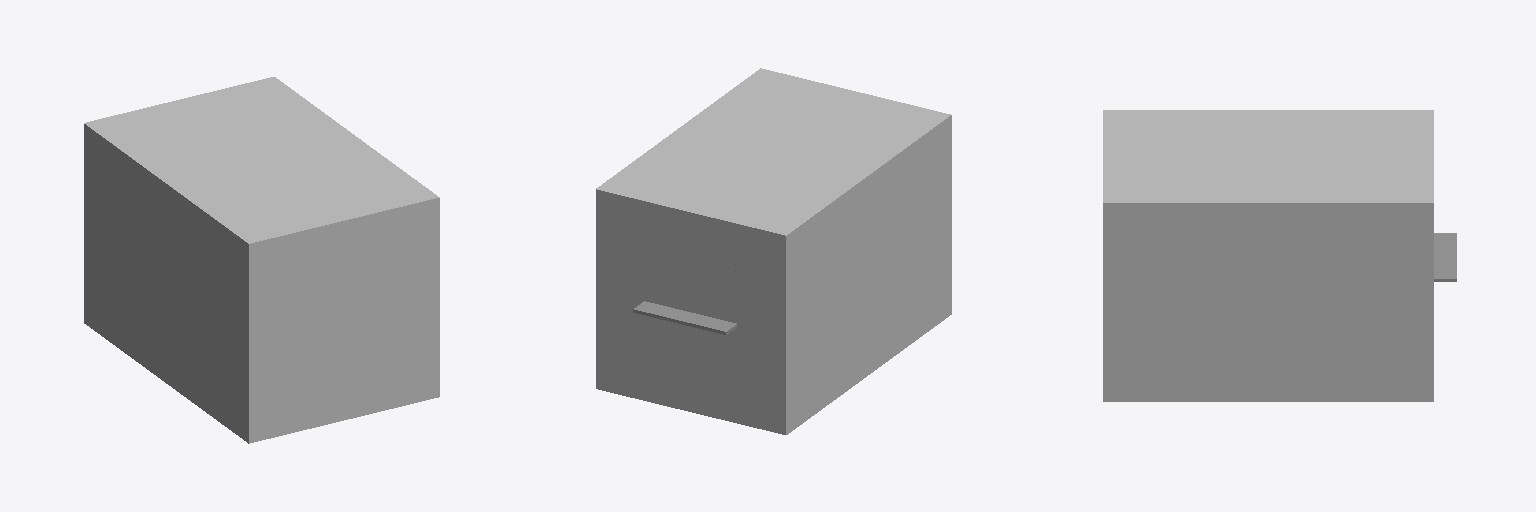
Rendered from aucman_hightech_displaystand.obj.
The picture shows the model from 3 angles: view 1: azimuth 30°, elevation 25°; view 2: azimuth 150°, elevation 25°; view 3: azimuth 270°, elevation 25°; orthographic projection.
Visible parts, largest first — view 1: co_culling; view 2: co_culling, c_box_003, c_box_002, g_panel, c_box_glass; view 3: co_culling, g_panel.
Boxes of the visible parts, x1=… form: co_culling: x1=84, y1=77, x2=439, y2=443; co_culling: x1=596, y1=68, x2=951, y2=434; c_box_003: x1=634, y1=239, x2=747, y2=385; c_box_002: x1=627, y1=230, x2=754, y2=393; g_panel: x1=633, y1=301, x2=736, y2=334; c_box_glass: x1=636, y1=241, x2=746, y2=382; co_culling: x1=1103, y1=110, x2=1433, y2=401; g_panel: x1=1434, y1=233, x2=1456, y2=281.
Bounding box in the file's own units: 120 × 120 × 192.